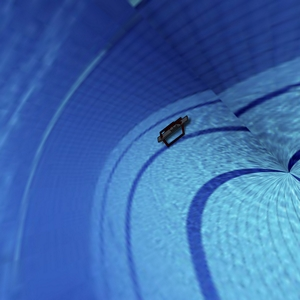submarine: (147, 111, 199, 158)
